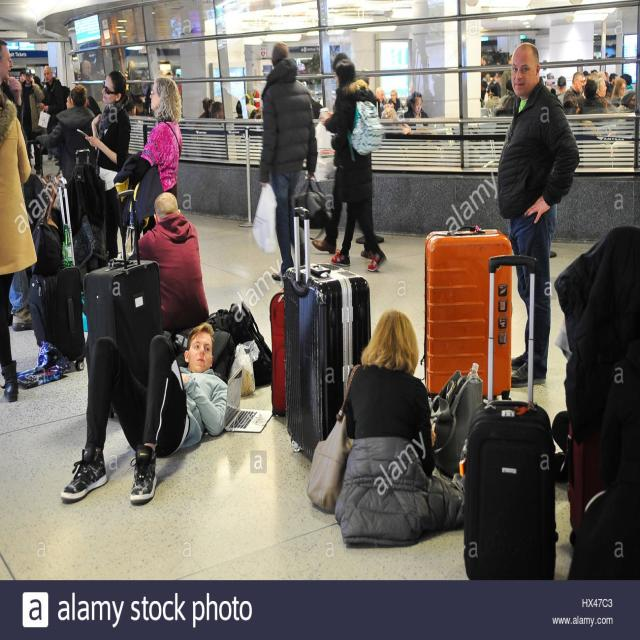body: (305, 307, 466, 551), (60, 321, 228, 506), (495, 39, 582, 392), (250, 39, 320, 283), (318, 57, 388, 273), (310, 51, 372, 256), (134, 190, 210, 334), (0, 119, 38, 406), (84, 70, 132, 262), (127, 76, 183, 237), (34, 83, 97, 183), (20, 68, 44, 176), (481, 50, 516, 116), (195, 91, 259, 127), (0, 38, 25, 121), (38, 66, 65, 132), (126, 59, 151, 118), (400, 91, 429, 130), (578, 79, 606, 114), (562, 70, 586, 107), (372, 85, 391, 131), (75, 58, 95, 98), (594, 76, 610, 114), (610, 77, 627, 107), (554, 75, 568, 108), (619, 88, 637, 112), (388, 88, 404, 113), (606, 72, 618, 96), (562, 99, 580, 115), (584, 69, 607, 80), (593, 52, 616, 60), (32, 76, 44, 90), (620, 73, 632, 86), (549, 87, 557, 98), (66, 96, 72, 110)
